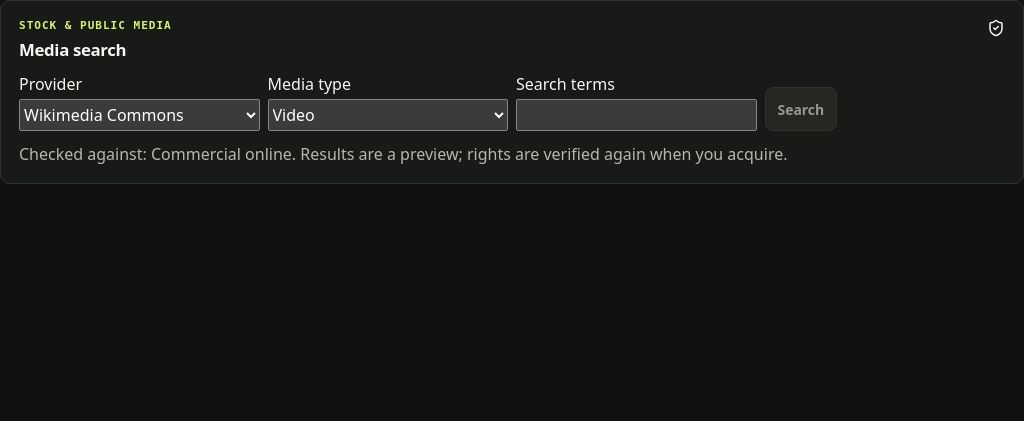
Test: RightsPanel › acquires with ids only and imports the result
The width and height of the screenshot is (1024, 421).
Type "sunrise" into the search field labelled "Search terms".
click(636, 115); type("sunrise")  # box left=516, top=99, right=756, bottom=131
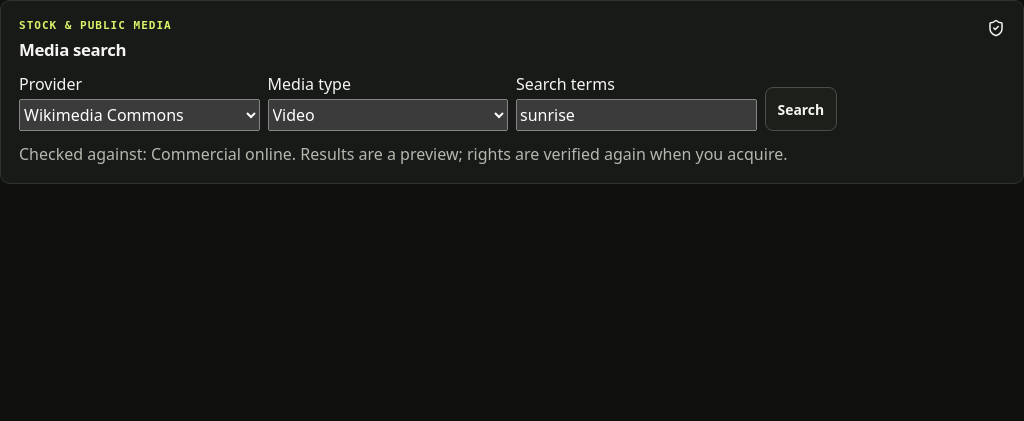
Click the button "Search".
click(801, 109)  # box left=764, top=87, right=837, bottom=131
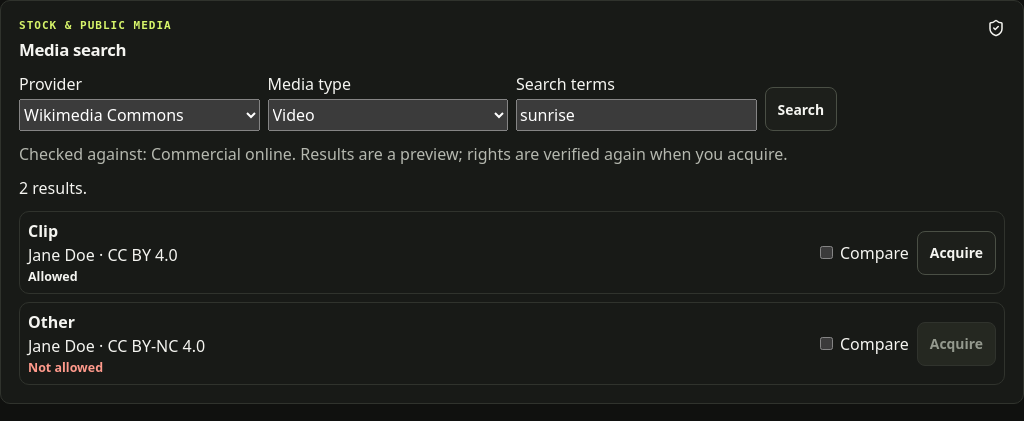
Result: the list named "Search results" is shown at left=19, top=211, right=1005, bottom=385
Click the button with aria-label "Acquire Clip".
click(956, 252)  # box left=917, top=230, right=996, bottom=274
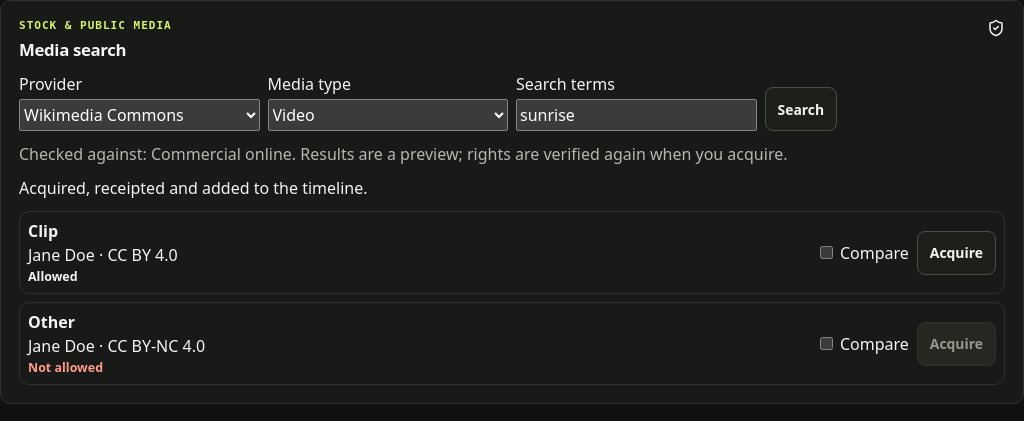
Result: the text "Acquired, receipted and added to the timeline." is shown at left=19, top=177, right=368, bottom=199
